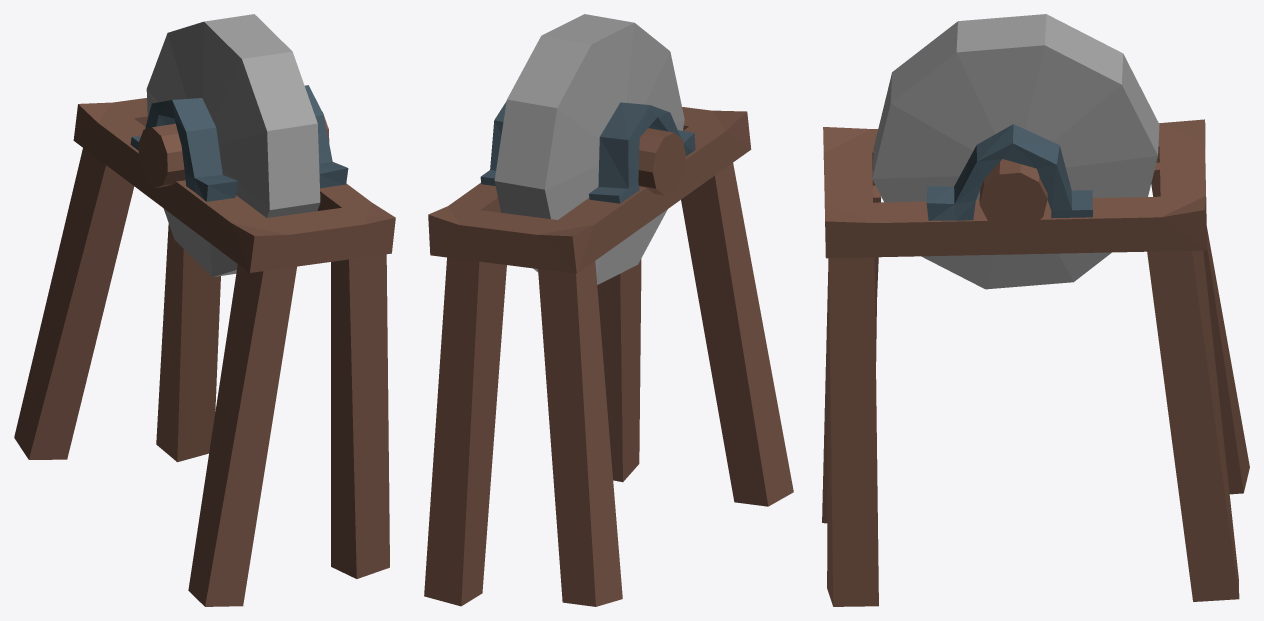
Rendered from whetstone.glb.
3 views of the same model, side by side, from view 1: azimuth 30°, elevation 25°; view 2: azimuth 150°, elevation 25°; view 3: azimuth 270°, elevation 25° (orthographic). The views are drawn at different scales.
Parts seen in each view (by area): view 1: group55688005; view 2: group55688005; view 3: group55688005.
Boxes of the visible parts, x1,y1,x2,y2 form: group55688005: (14, 14, 395, 606); group55688005: (424, 14, 793, 606); group55688005: (822, 14, 1249, 606).
Bounding box in the file's own units: 0.2066 × 0.4904 × 0.3469.
